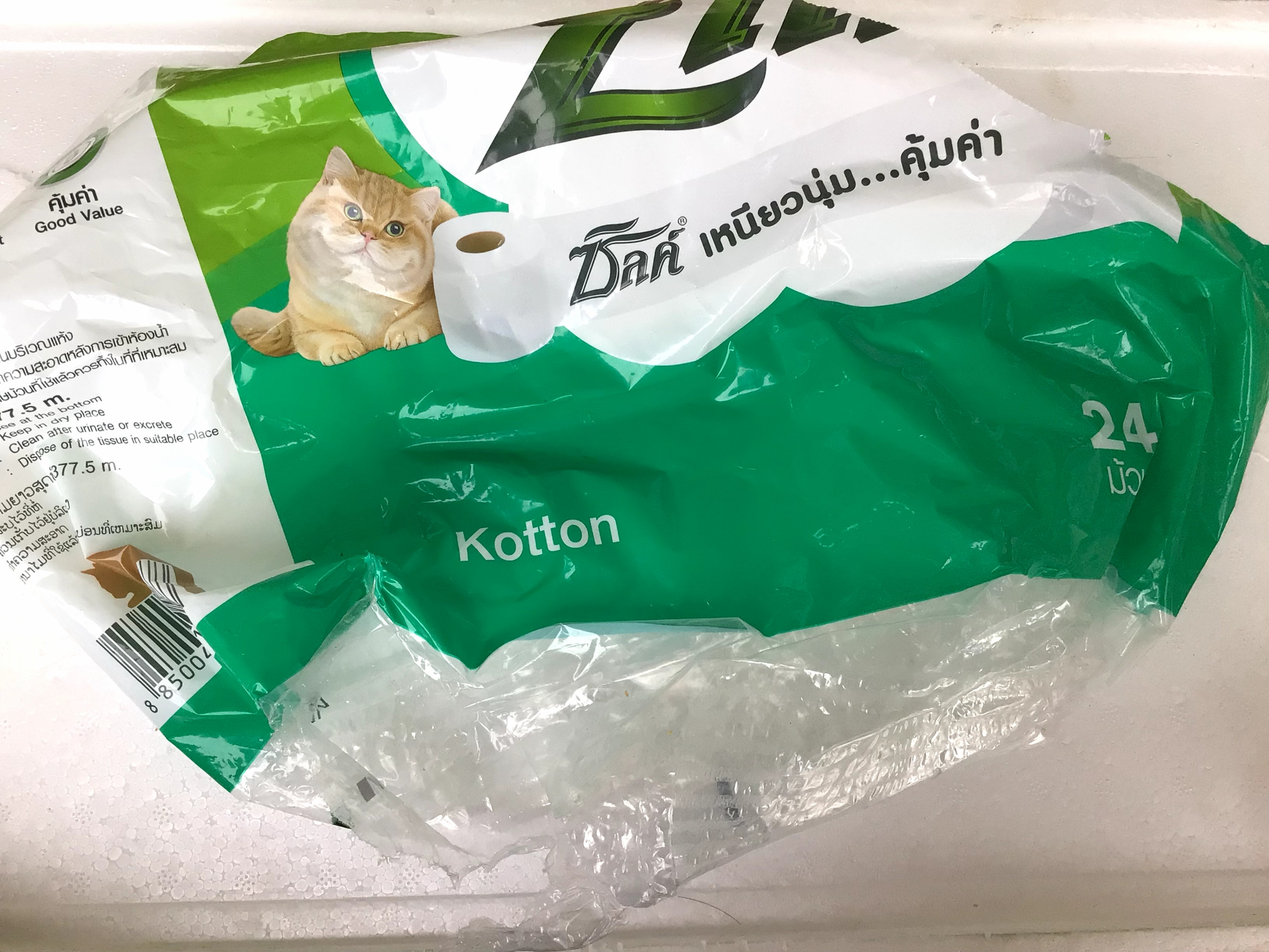plastic: (0, 0, 1269, 906)
